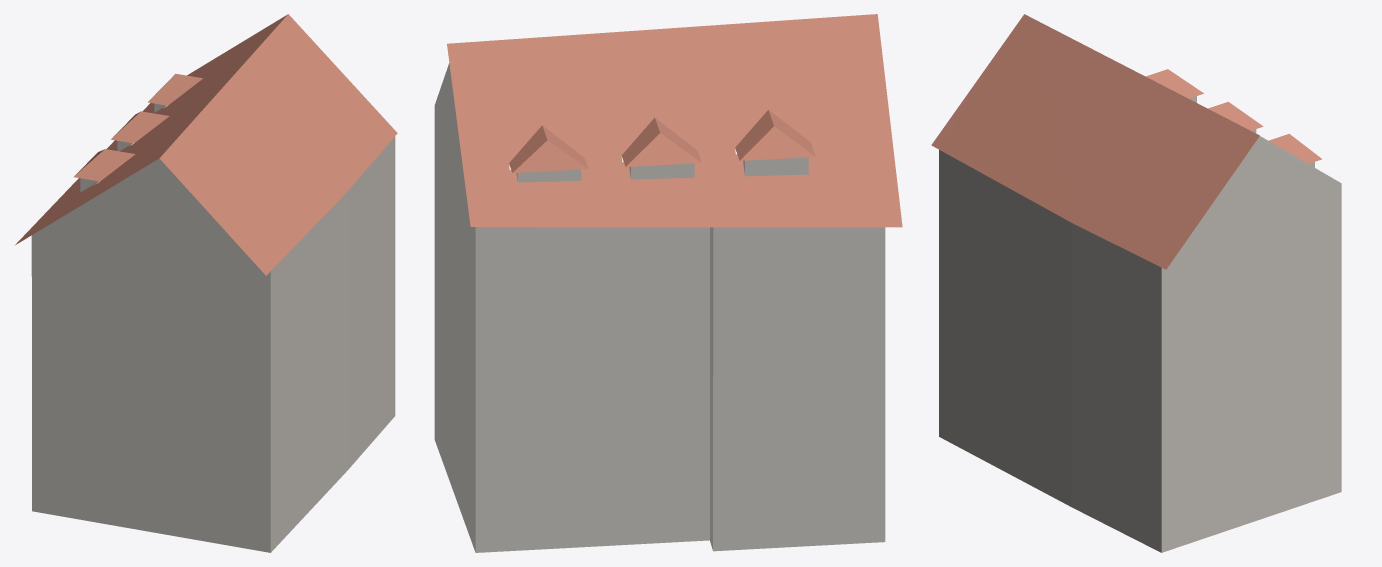
3 renders of one model, left to right at view 1: azimuth 30°, elevation 25°; view 2: azimuth 150°, elevation 25°; view 3: azimuth 270°, elevation 25°, orthographic. The views are drawn at different scales.
Parts seen in each view (by area): view 1: swisstopo:swissbuildings3d:f903f98b-5df2-4ff8-b217-cccff7787; view 2: swisstopo:swissbuildings3d:f903f98b-5df2-4ff8-b217-cccff7787; view 3: swisstopo:swissbuildings3d:f903f98b-5df2-4ff8-b217-cccff7787.
Boxes of the visible parts, x1,y1,x2,y2 form: swisstopo:swissbuildings3d:f903f98b-5df2-4ff8-b217-cccff7787: (15,14,397,552); swisstopo:swissbuildings3d:f903f98b-5df2-4ff8-b217-cccff7787: (434,14,902,552); swisstopo:swissbuildings3d:f903f98b-5df2-4ff8-b217-cccff7787: (931,14,1341,552).
Size of the model in its own units: 21.43 by 19.96 by 20.33.
